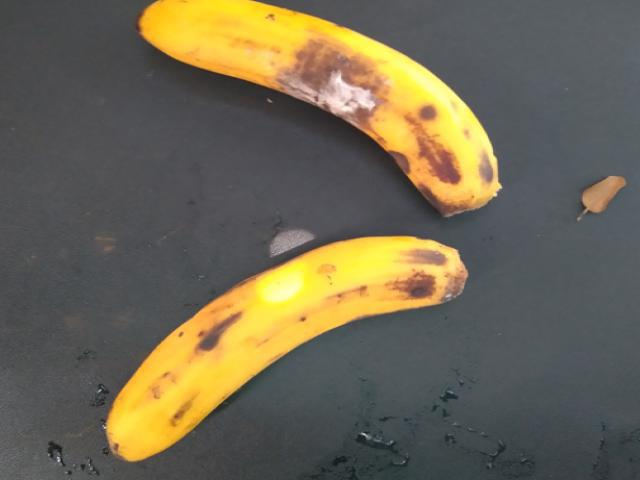ripe: (79, 228, 482, 479)
rotten: (92, 0, 507, 216)
